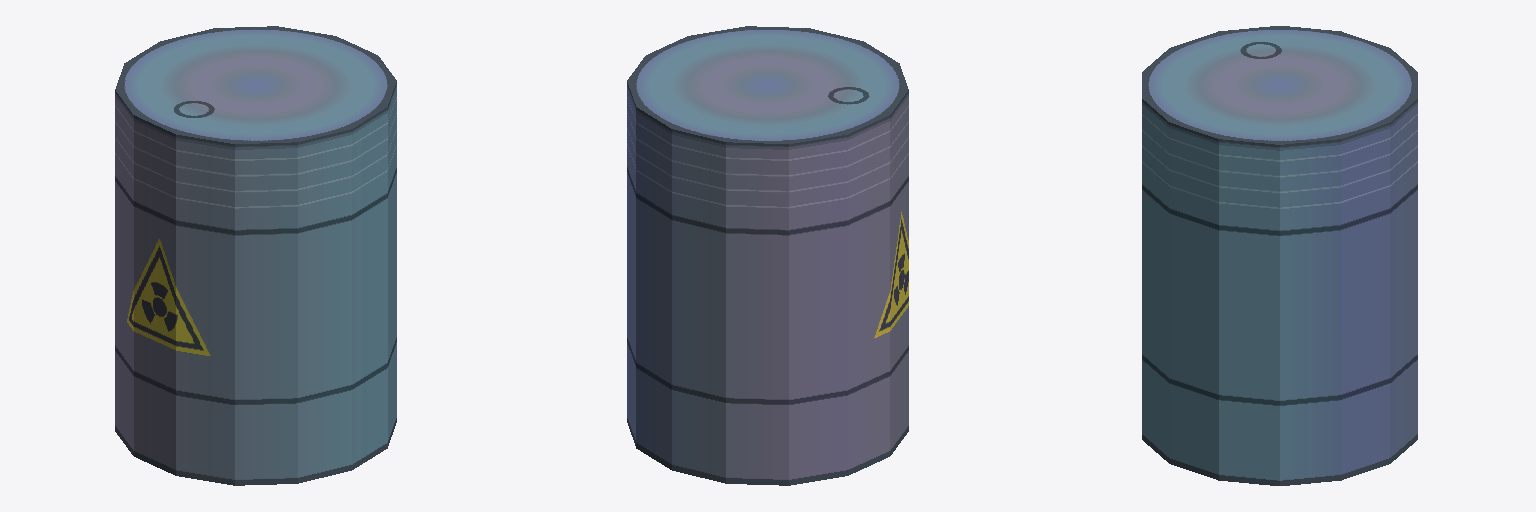
3 renders of one model, left to right at view 1: azimuth 30°, elevation 25°; view 2: azimuth 150°, elevation 25°; view 3: azimuth 270°, elevation 25°, orthographic.
Bounding box in the file's own units: 12 × 16 × 11.7.
1 materials, 1 textured.